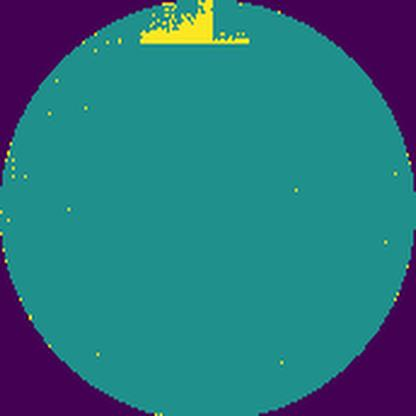Loc: (138, 0, 252, 45)
